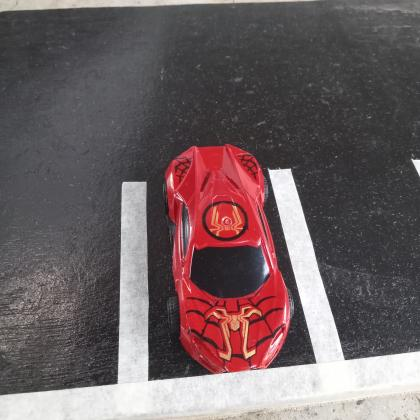Car: (163, 144, 294, 374)
